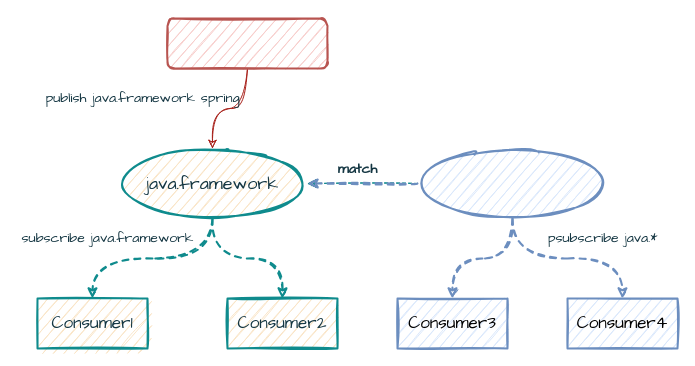
This 695x366 diagram has some shape labels left out. The box of each missing label's shape, as (x1, y1, x2, y2) in pixels:
java.*: (416, 147, 608, 219)
Publisher: (166, 17, 328, 69)
